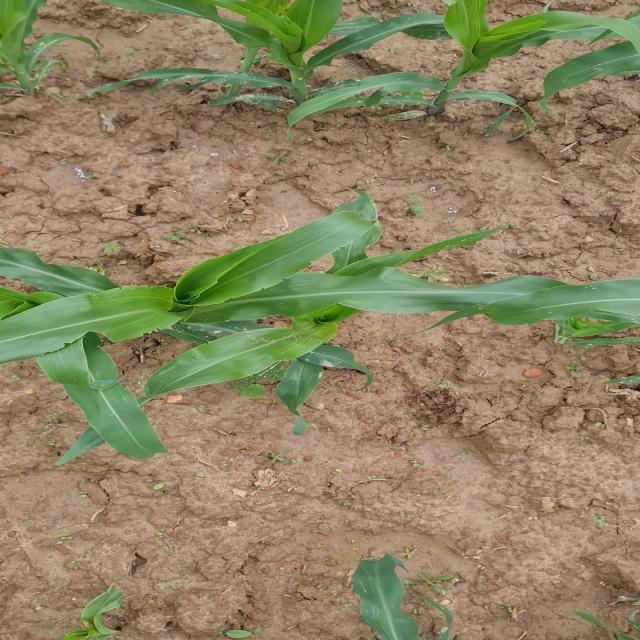maize: (0, 202, 640, 436), (0, 0, 640, 106), (324, 534, 472, 640), (51, 586, 176, 640)
